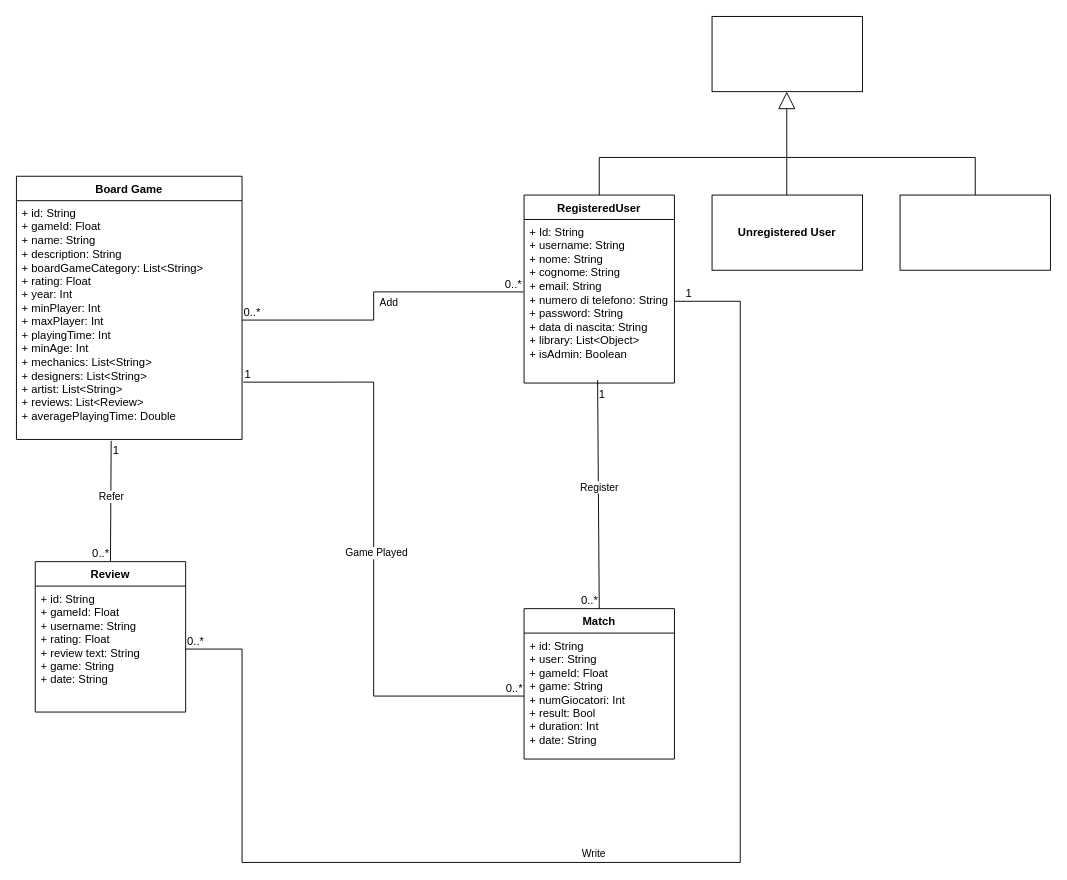
The diagram is 1067 pixels wide and 880 high, and some of its shapes have lost their labels. Each missing label, with the centre of its shape:
"Admin" goes at point 974,232.
"User" goes at point 786,54.
